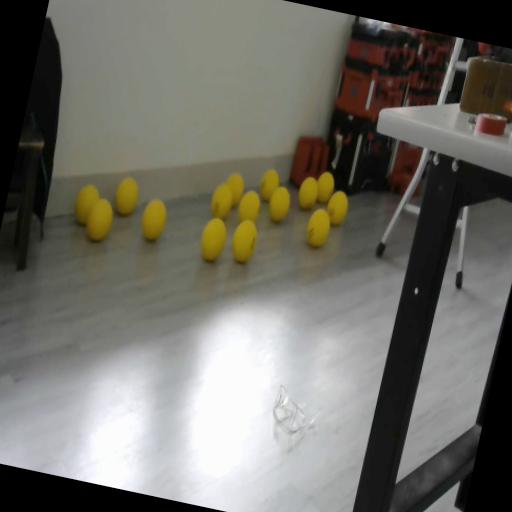FUEL: (81, 194, 117, 245), (196, 212, 230, 264), (227, 215, 261, 265), (138, 196, 170, 244), (302, 204, 333, 250), (111, 174, 141, 218), (234, 186, 264, 226), (323, 188, 351, 227), (220, 169, 247, 209), (266, 184, 292, 223), (256, 166, 282, 204), (311, 168, 337, 205), (294, 175, 320, 212)
